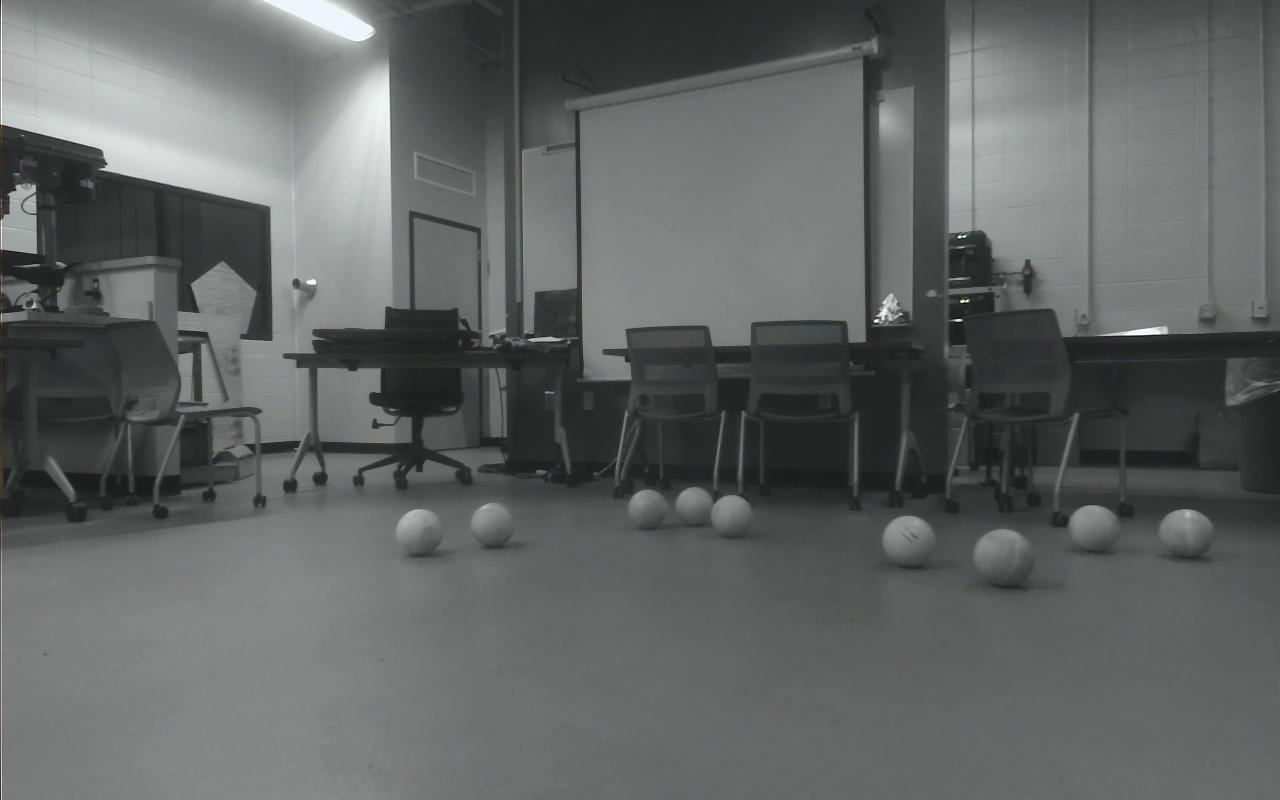Fuel: (973, 529, 1034, 588), (882, 515, 936, 568), (1158, 509, 1215, 559), (1068, 505, 1120, 553), (396, 509, 443, 557), (470, 502, 516, 548), (710, 494, 753, 538), (627, 489, 667, 529), (675, 486, 714, 527)
